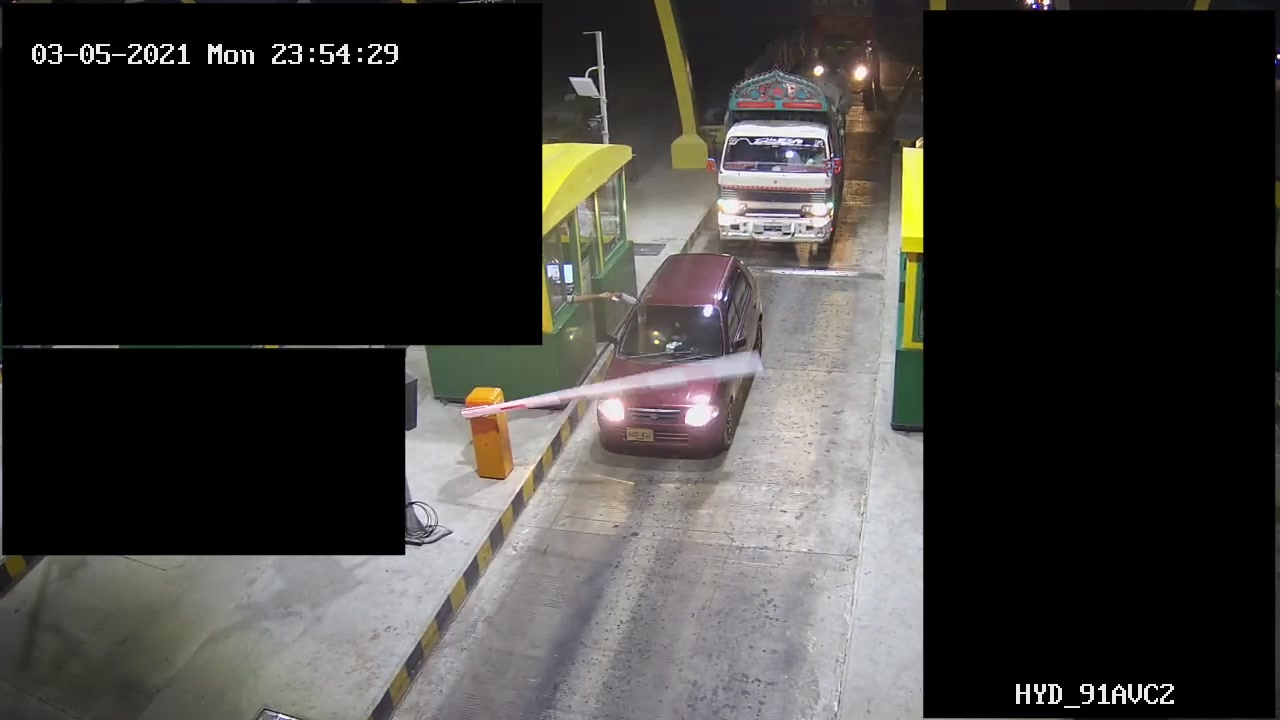F1: (592, 251, 768, 471)
F5: (710, 57, 846, 250)
